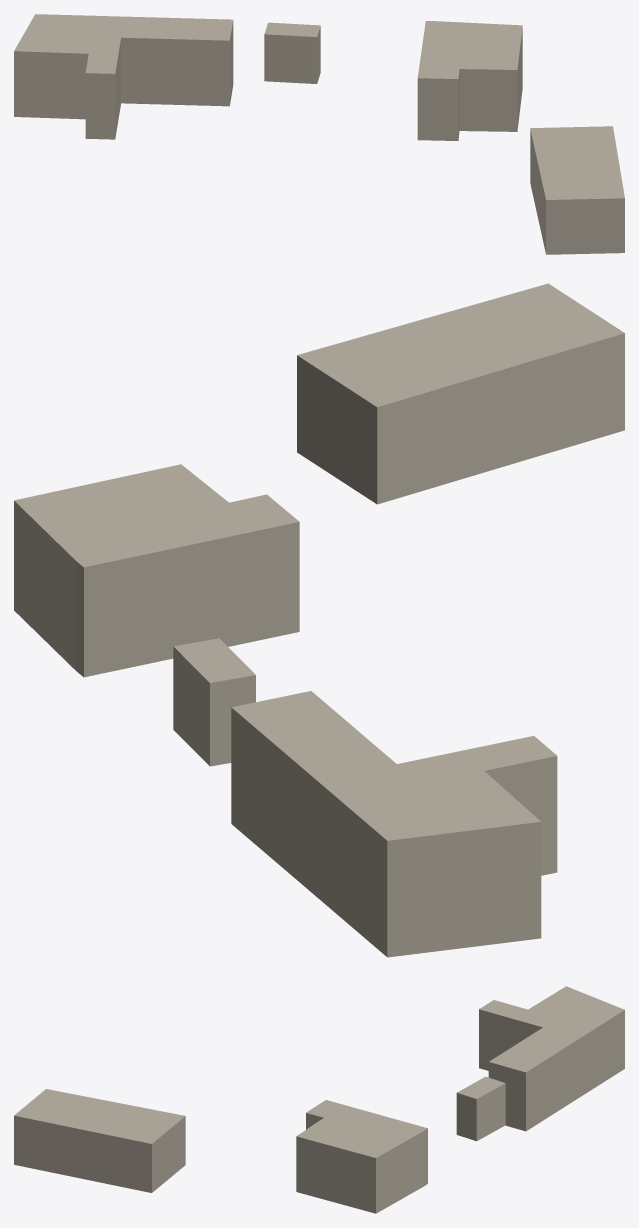
The model's file is kalkara_65_22_mid.glb.
The picture shows the model from 3 angles, top to bottom: view 1: azimuth 30°, elevation 25°; view 2: azimuth 150°, elevation 25°; view 3: azimuth 270°, elevation 25°; orthographic projection. The views are drawn at different scales.
Parts seen in each view (by area): view 1: geometry_0; view 2: geometry_0; view 3: geometry_0.
Boxes of the visible parts, <box> form: geometry_0: <box>14,14,624,254</box>; geometry_0: <box>14,283,624,957</box>; geometry_0: <box>14,986,624,1213</box>.
Size of the model in its own units: 96.5 by 16.21 by 141.
